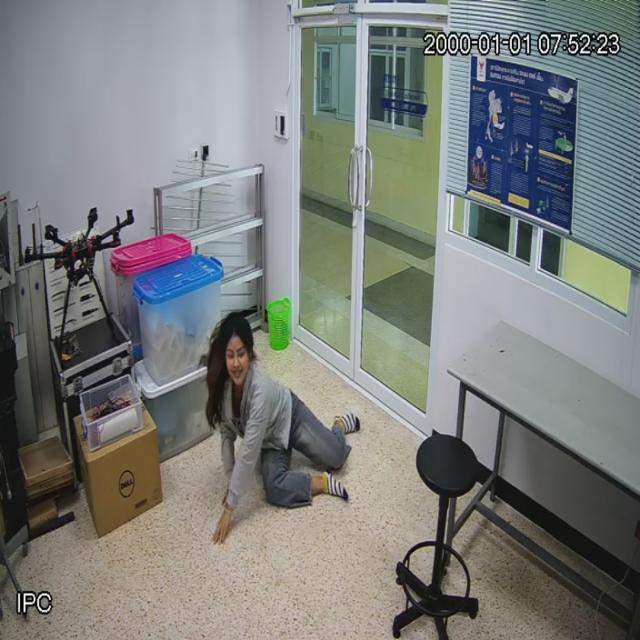fall: (205, 306, 359, 521)
